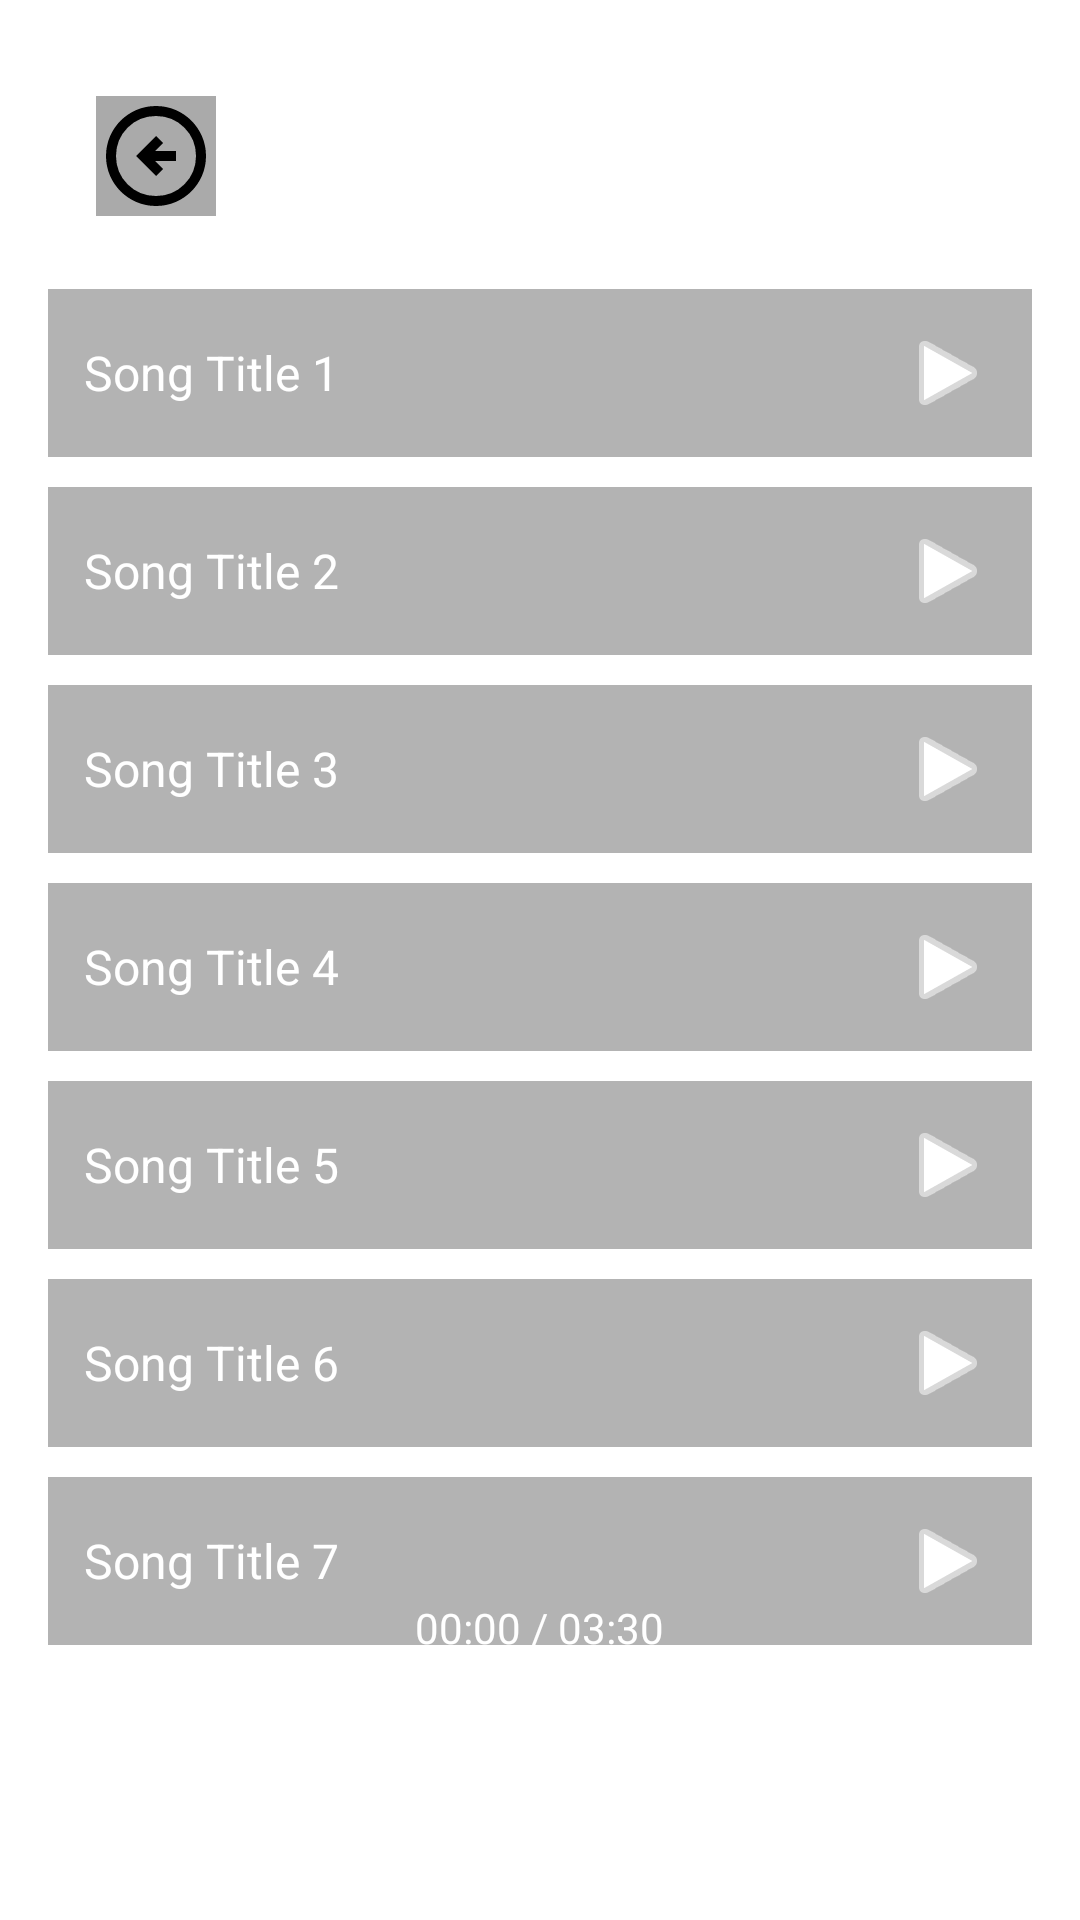

Named icons in this screenshot (1080*1920) and their centers, point (x, y):
Back: point (156, 156)
